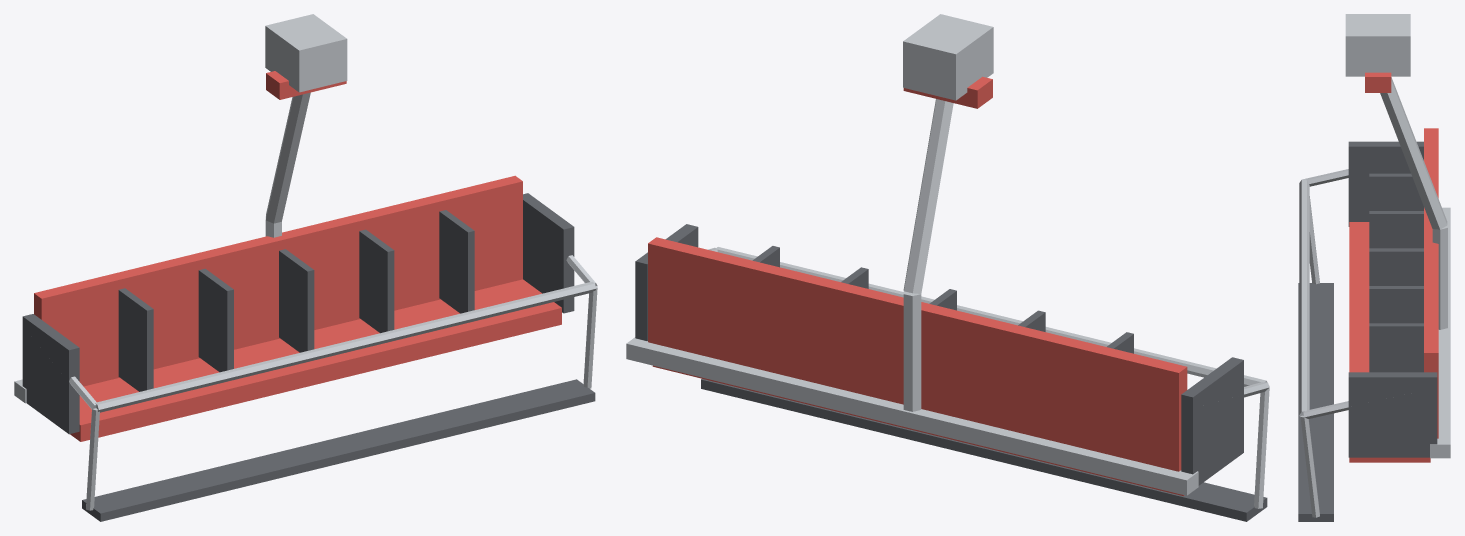
File: ski-resort-and-snow-park-chairlift-chair-6-seat-5d6bd046__25952.glb
3 renders of one model, left to right at view 1: azimuth 30°, elevation 25°; view 2: azimuth 150°, elevation 25°; view 3: azimuth 270°, elevation 25°, orthographic. The views are drawn at different scales.
Visible parts, largest first — view 1: chair-hanger (×3); view 2: chair-hanger (×3); view 3: chair-hanger (×3).
Boxes of the visible parts, bbox=[...] form: chair-hanger (×3): bbox=[14, 14, 597, 521]; chair-hanger (×3): bbox=[626, 14, 1269, 521]; chair-hanger (×3): bbox=[1298, 14, 1450, 521].
Bounding box in the file's own units: 3.8 × 2.85 × 1.03.
